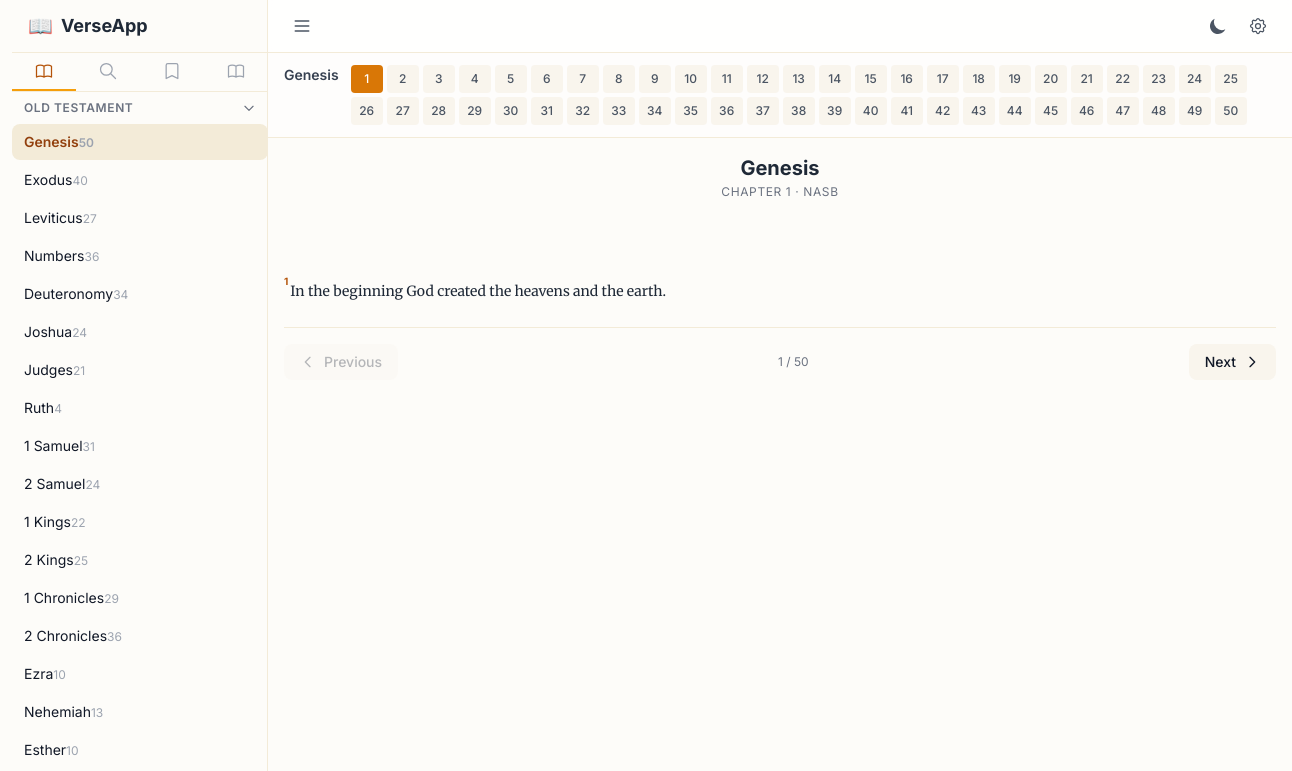
Test: AppLayout › can switch to Dictionary tab
Click the button named "Dictionary". click: (236, 72)
box: [204,53,268,91]
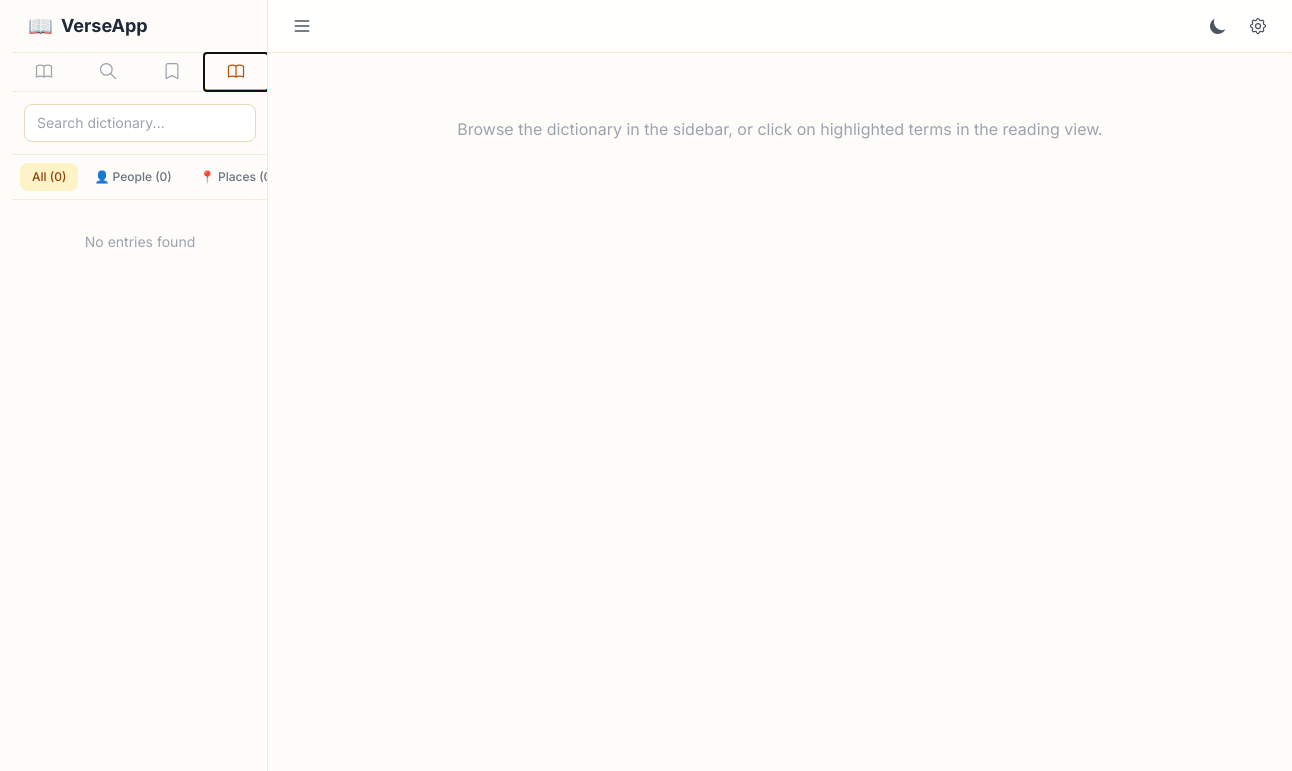
Expected: the field with placeholder "Search dictionary..." is shown, [24,104,256,142]
